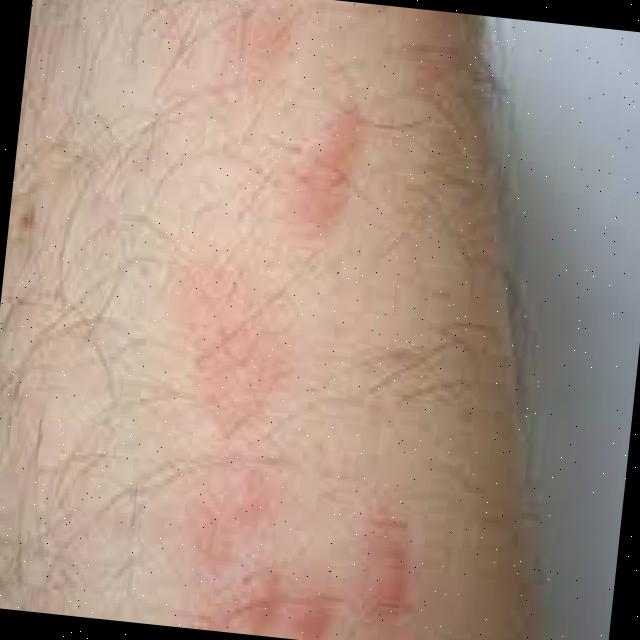kan emici bocekler: (186, 266, 291, 434), (292, 93, 367, 233), (212, 559, 338, 640), (186, 457, 282, 559), (350, 514, 424, 632)
